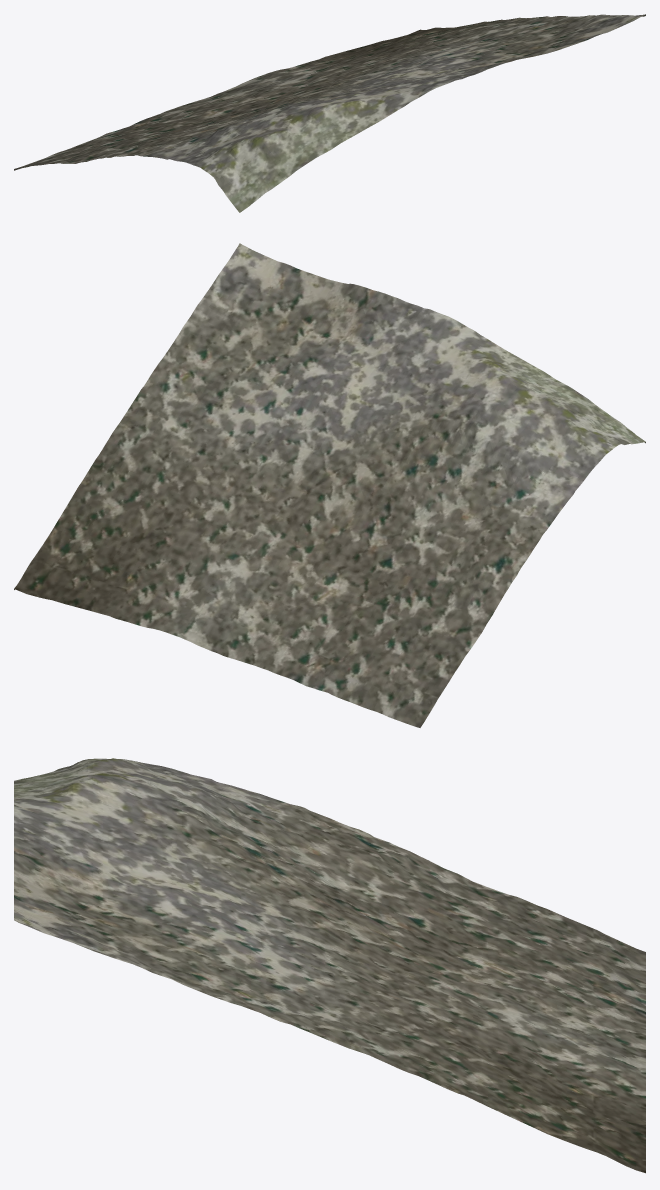
3 views of the same model, one above another, from view 1: azimuth 30°, elevation 25°; view 2: azimuth 150°, elevation 25°; view 3: azimuth 270°, elevation 25° (orthographic). The views are drawn at different scales.
Bounding box in the file's own units: 250 × 131 × 241.
1 material, 1 textured.
